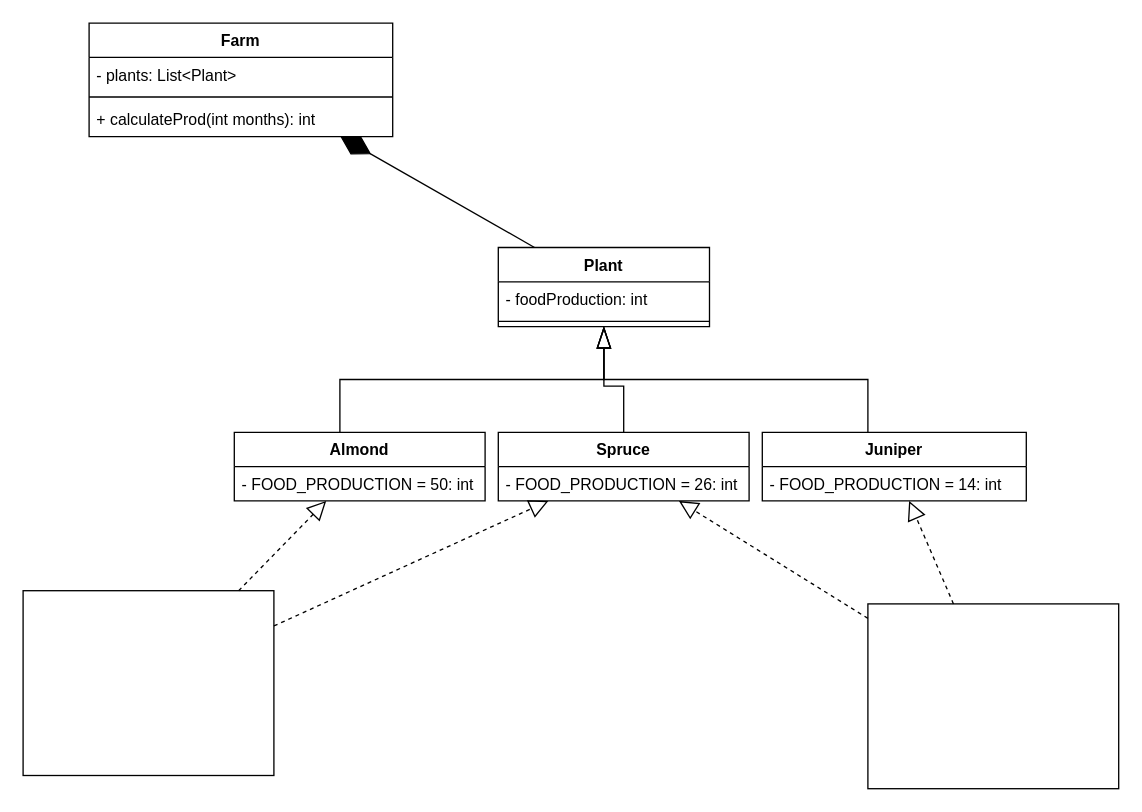
Some shapes in this 1142 by 812 pixel diagram are drawn without their labels. Here are the shapes that lost their labels. From the top down, the centre of each, then its label:
[148,682]: <<Interface>> MushroomAndRot + mushroomBonus(): int + rotDecrease(): int
[993,696]: <<Interface>> Growth + leavesBonus(): int
